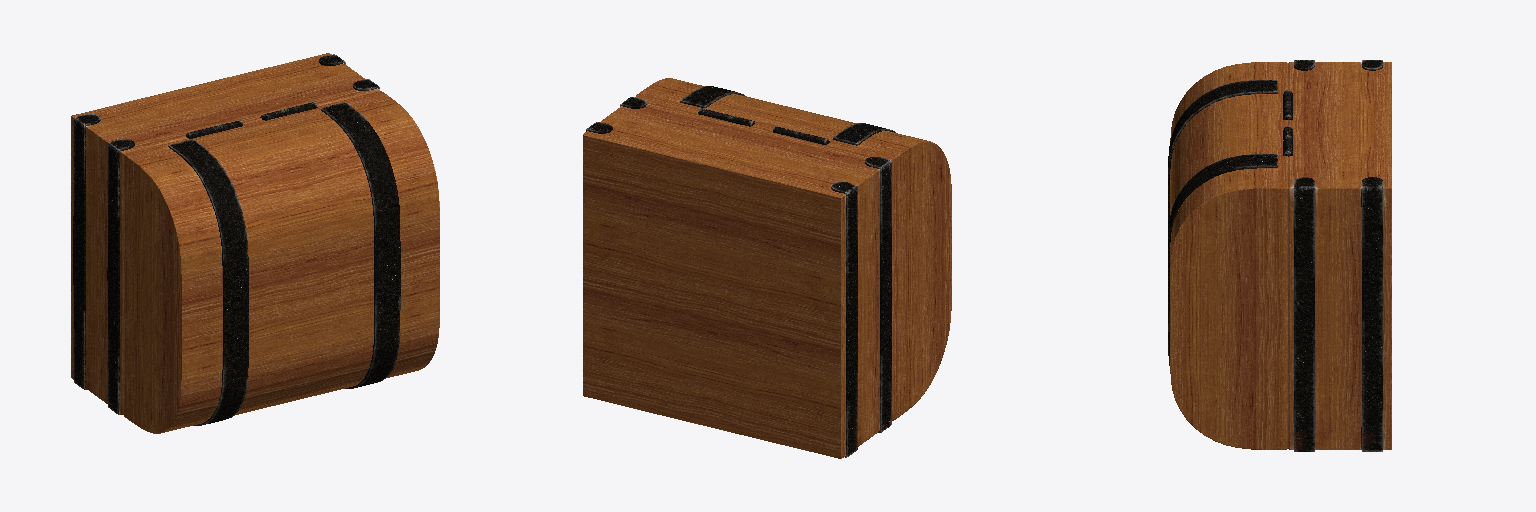
3 renders of one model, left to right at view 1: azimuth 30°, elevation 25°; view 2: azimuth 150°, elevation 25°; view 3: azimuth 270°, elevation 25°, orthographic.
Visible parts, largest first — view 1: 13449_Treasure_Chest; view 2: 13449_Treasure_Chest; view 3: 13449_Treasure_Chest.
Boxes of the visible parts, <box> form: 13449_Treasure_Chest: <box>71,53,439,433</box>; 13449_Treasure_Chest: <box>583,78,951,458</box>; 13449_Treasure_Chest: <box>1168,60,1391,451</box>.
Bounding box in the file's own units: 34.02 × 33.5 × 25.23.
1 materials, 1 textured.